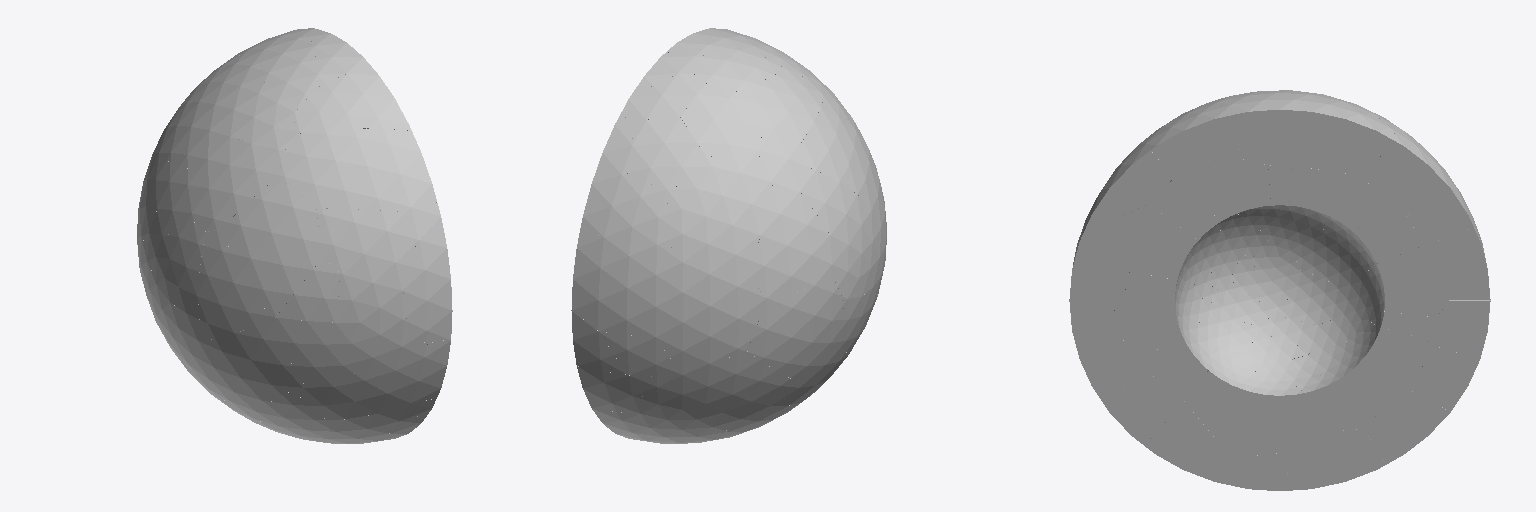
File: shatter_1.obj
3 views of the same model, side by side, from view 1: azimuth 30°, elevation 25°; view 2: azimuth 150°, elevation 25°; view 3: azimuth 270°, elevation 25° (orthographic).
Bounding box in the file's own units: 10 × 20 × 20.